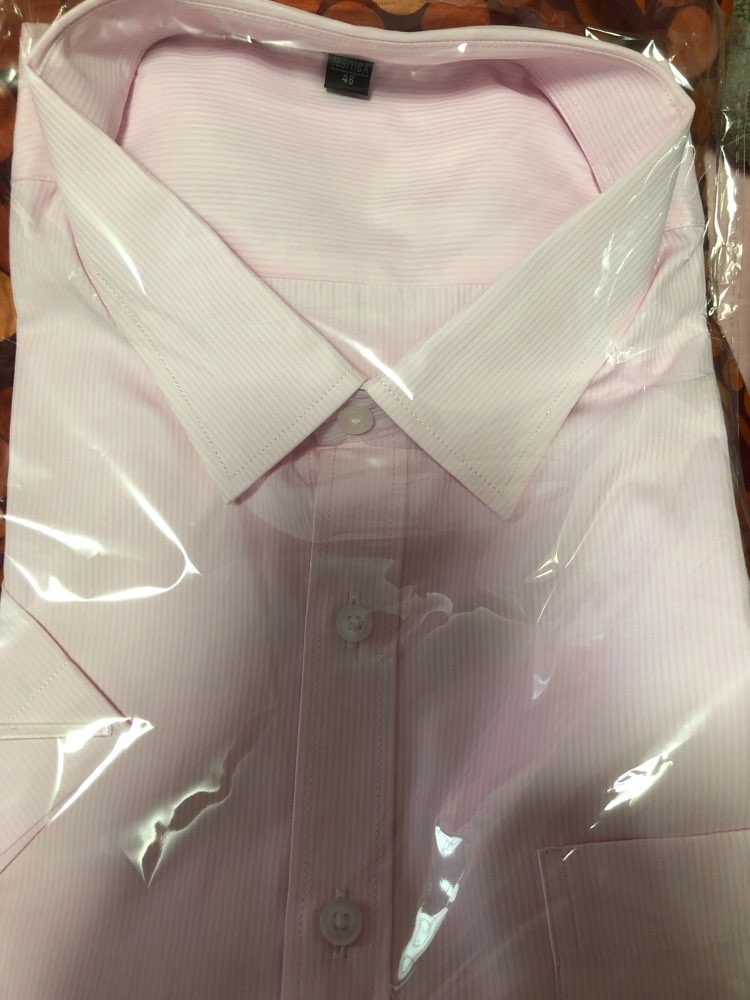shirts: (15, 16, 750, 987)
